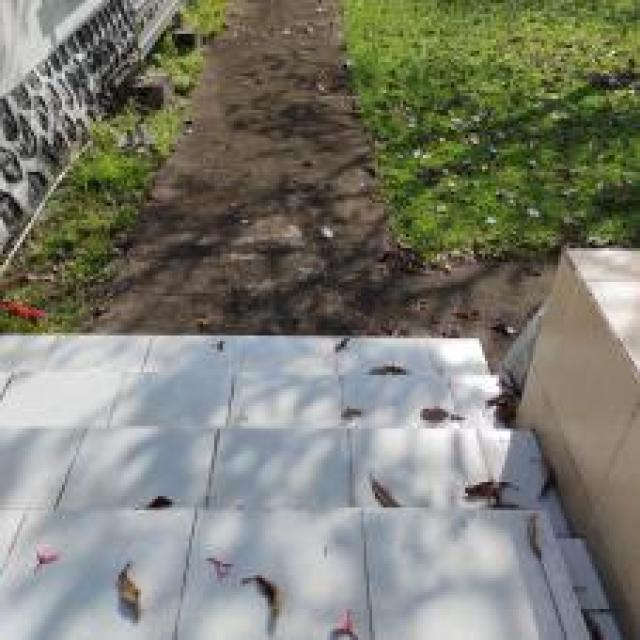downstair: (5, 330, 554, 552)
